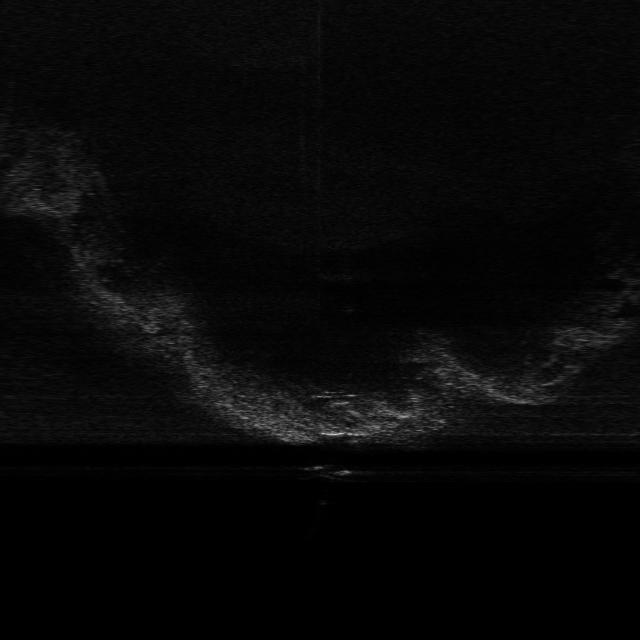plane: (294, 462, 370, 483)
